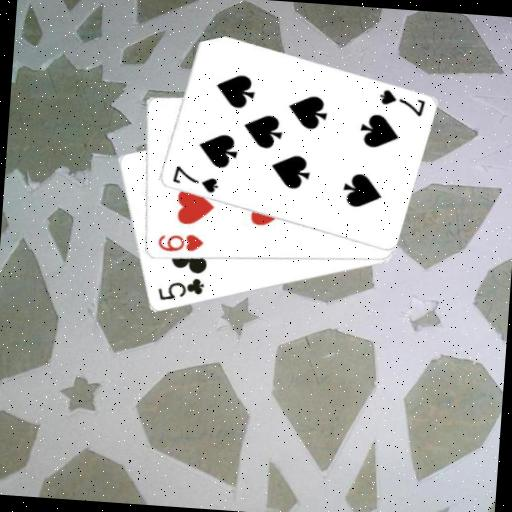5C: (154, 273, 206, 305)
6H: (153, 229, 205, 256)
7S: (168, 163, 220, 196), (375, 87, 427, 119)
